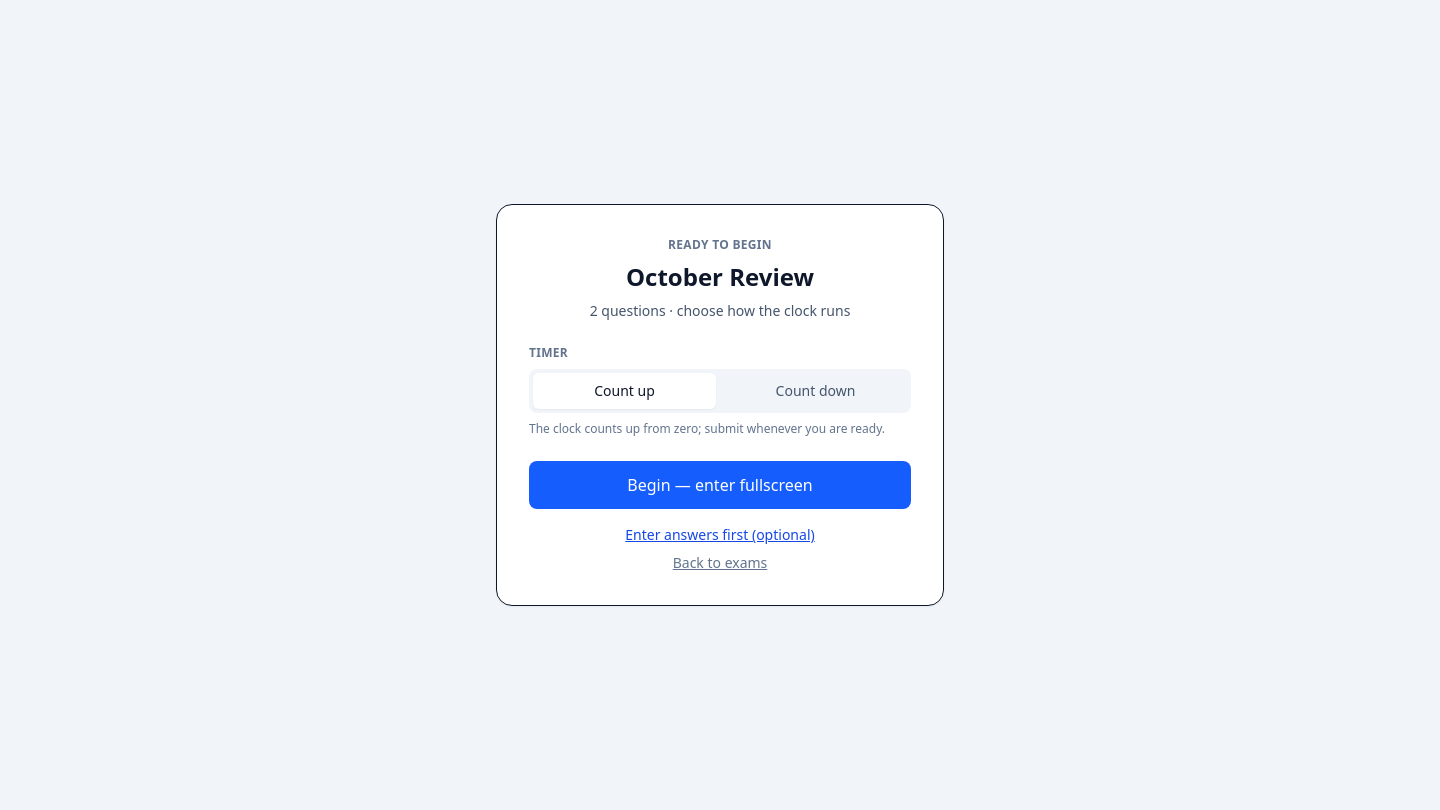
it: PracticePage sessions › persists a starred question while practising
Expected: the text "Ready to begin" is shown, [668,236,772,253]
Step 1. Click the button "Begin — enter fullscreen" → x=720, y=485, box [529,461,911,509]
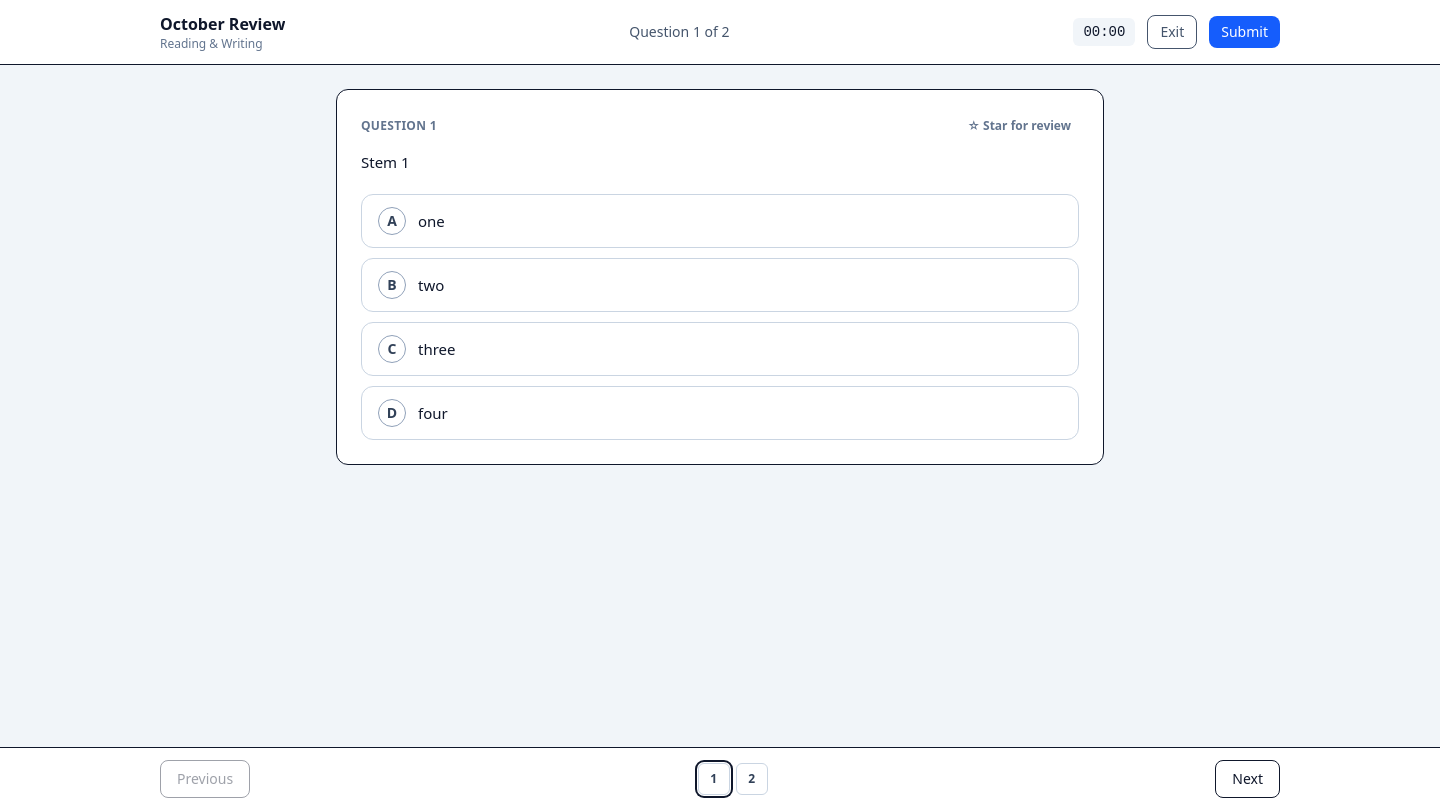
Expected: the button "Exit" is shown, [1147,15,1197,49]
Step 2. Click the button "☆ Star for review" → x=1019, y=126, box [959,114,1079,138]
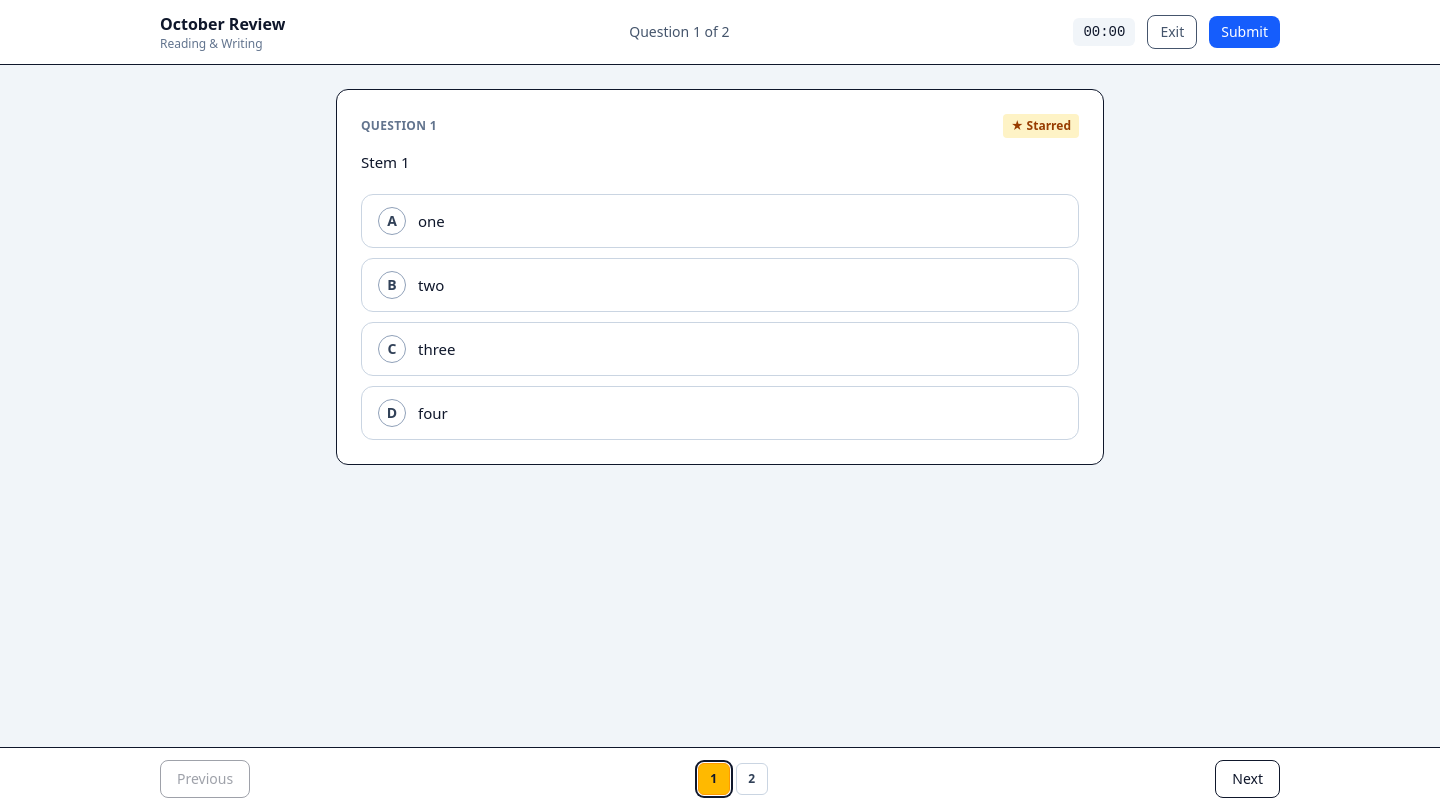
Expected: the button "★ Starred" is shown, [1003,114,1079,138]
